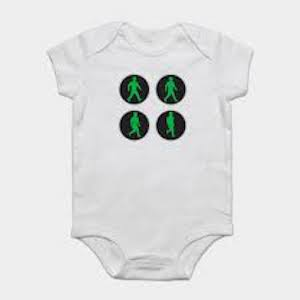green: (157, 112, 188, 141), (122, 72, 146, 106), (121, 111, 147, 139), (159, 74, 182, 103)
